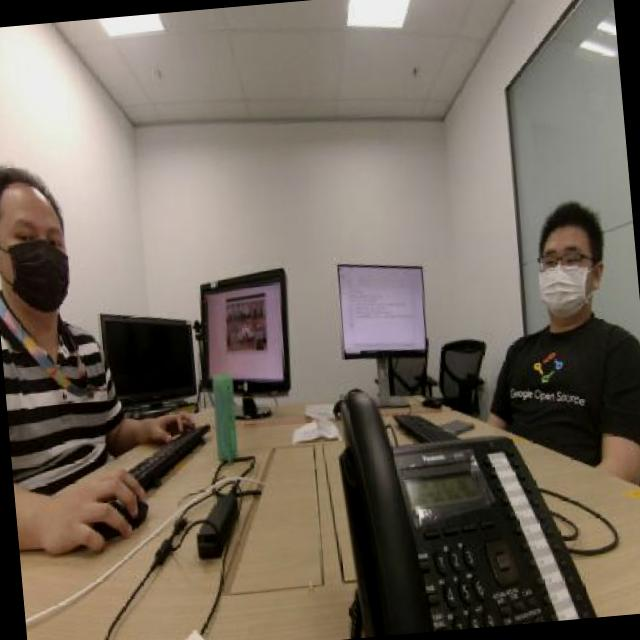Person: (0, 138, 123, 505), (506, 160, 640, 444)
